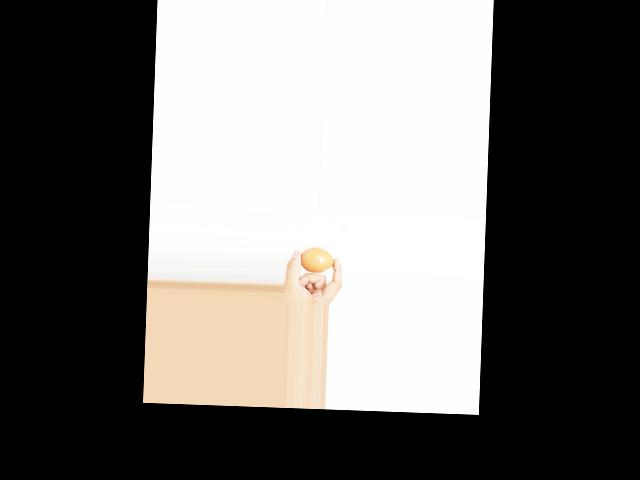egg: (300, 246, 334, 273)
